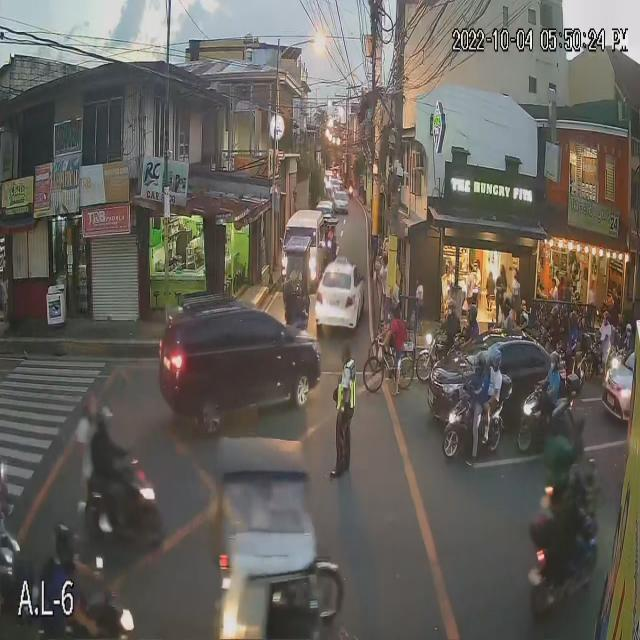helmet: (48, 520, 77, 566), (544, 408, 574, 449), (89, 404, 112, 443), (567, 461, 591, 498), (466, 349, 488, 386), (79, 392, 99, 423), (487, 347, 503, 375), (546, 348, 562, 376), (442, 298, 460, 321), (495, 295, 512, 317), (515, 309, 532, 329), (564, 311, 583, 328), (462, 305, 478, 323), (542, 303, 558, 321), (557, 305, 572, 322), (624, 319, 635, 335)
motorcycle: (74, 449, 176, 543), (522, 517, 600, 615), (19, 577, 139, 640), (441, 385, 512, 462), (516, 381, 582, 455), (534, 473, 607, 525), (416, 332, 461, 375), (580, 340, 614, 379), (607, 347, 631, 373)
rider: (45, 521, 83, 603), (546, 407, 579, 494), (557, 468, 591, 550), (94, 403, 122, 486), (76, 391, 102, 479), (466, 345, 491, 413), (485, 346, 509, 402), (438, 297, 460, 347), (542, 347, 562, 400), (618, 313, 638, 355), (494, 293, 514, 334), (542, 302, 559, 346), (466, 297, 485, 335), (555, 306, 569, 344), (600, 305, 614, 343), (566, 309, 581, 341), (515, 305, 532, 332)
